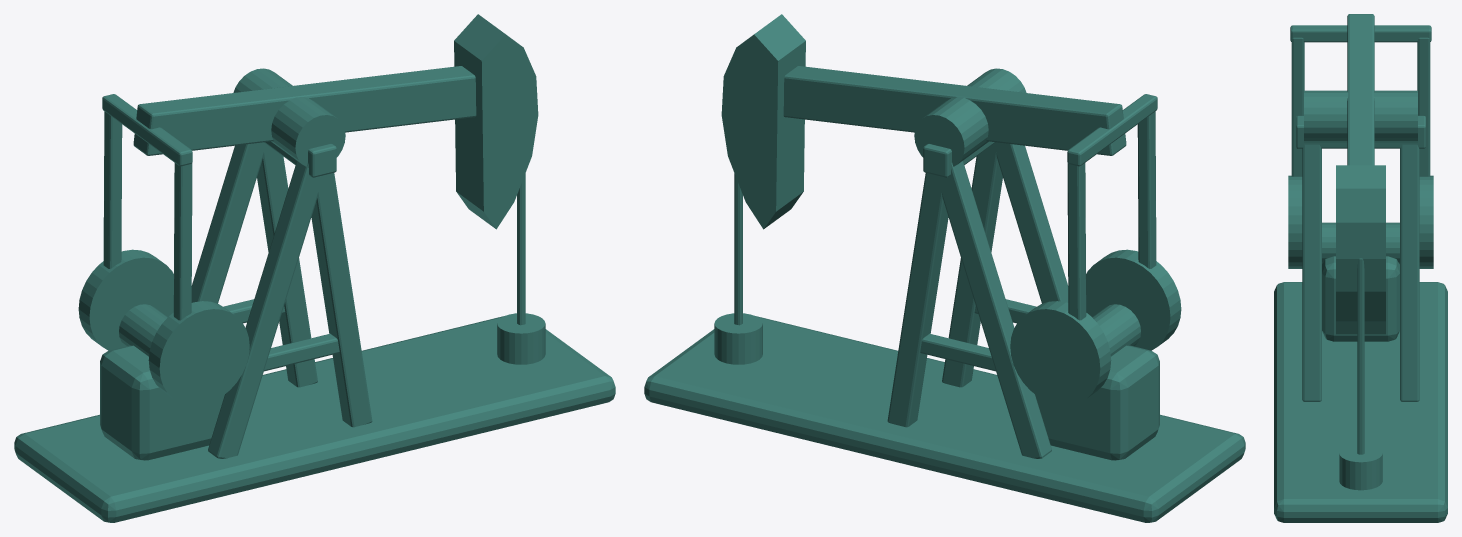
File: NEW_RECOVERY_119_LOD0.fbx
3 renders of one model, left to right at view 1: azimuth 30°, elevation 25°; view 2: azimuth 150°, elevation 25°; view 3: azimuth 270°, elevation 25°, orthographic. The views are drawn at different scales.
Visible parts, largest first — view 1: Static oil pumpjack LOD0; view 2: Static oil pumpjack LOD0; view 3: Static oil pumpjack LOD0.
Part boxes in pixels (box(x1,y1,x2,y2)): Static oil pumpjack LOD0: box(14, 14, 615, 522); Static oil pumpjack LOD0: box(644, 14, 1245, 522); Static oil pumpjack LOD0: box(1274, 14, 1447, 522).
Size of the model in its own units: 490 by 160 by 332.
